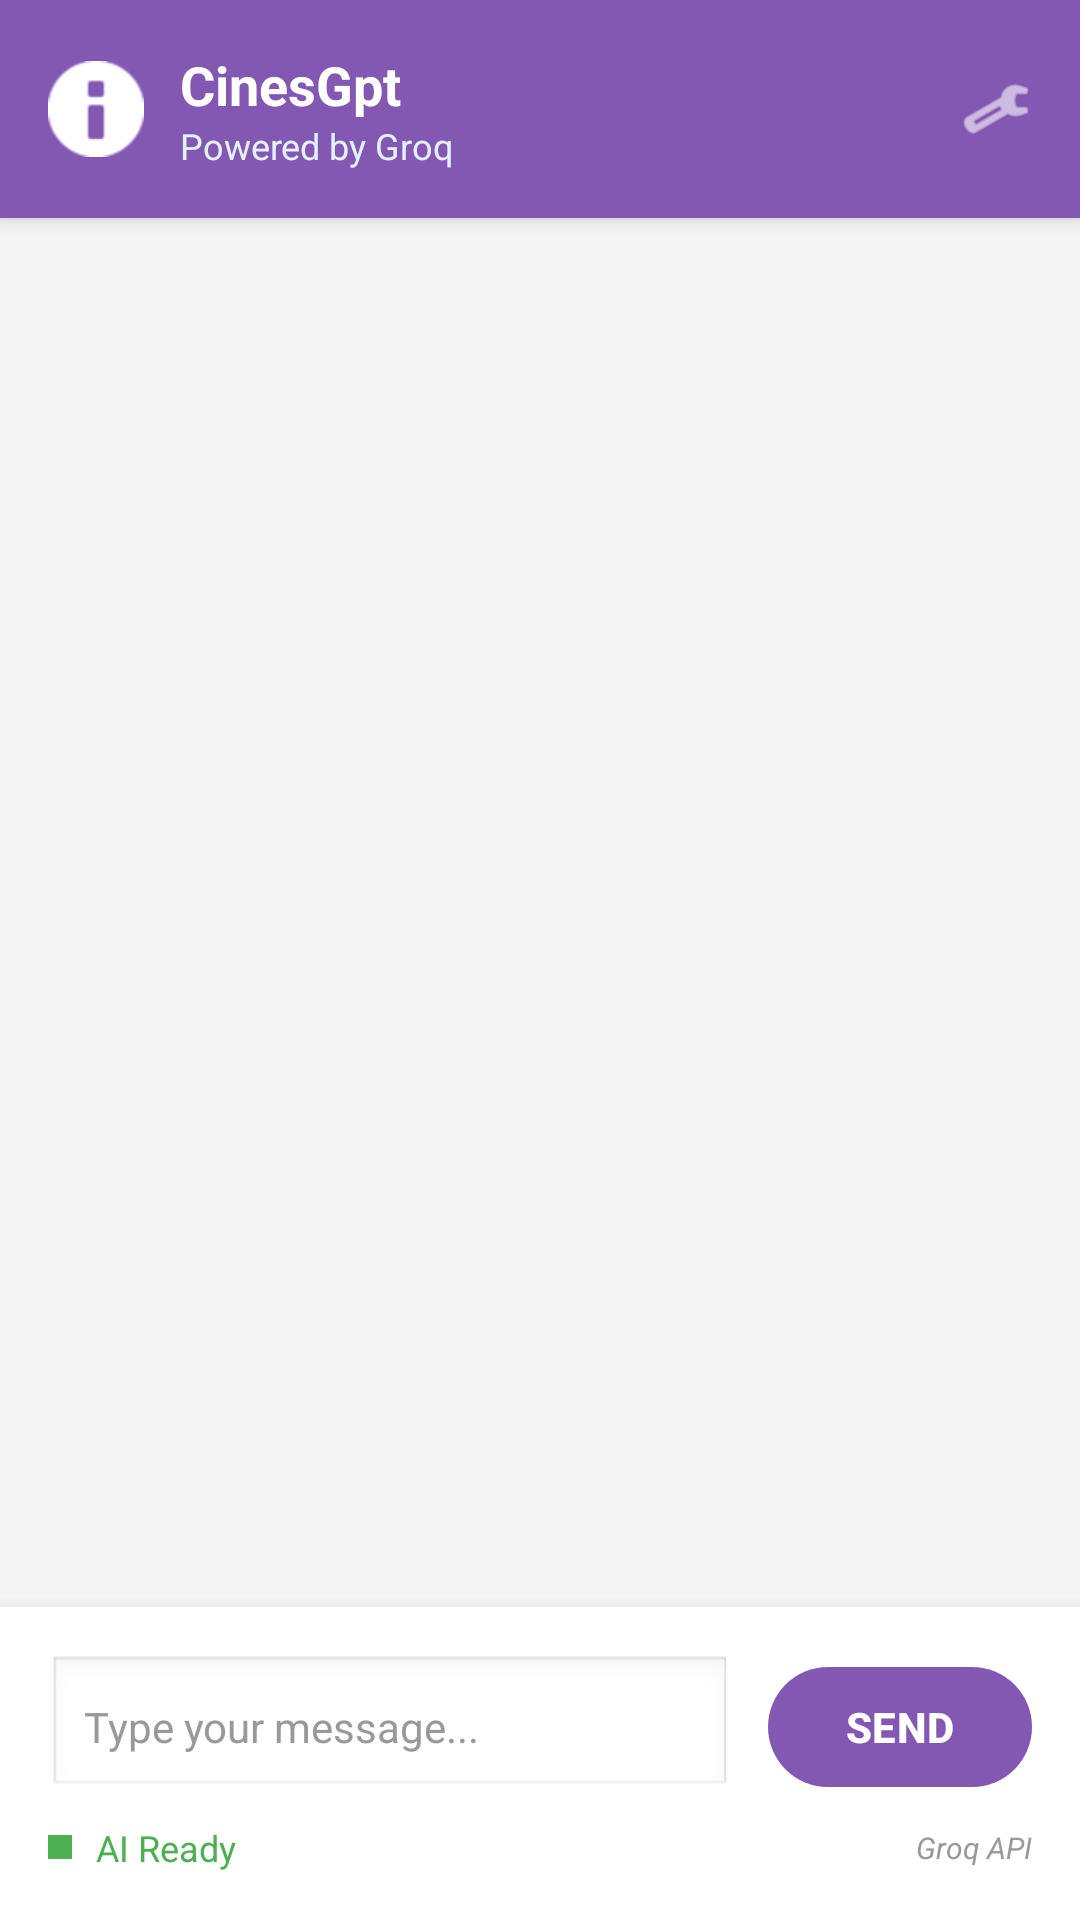

Icons on this 1080 x 1920 Android screen, each with the point to tap as (x=x, y=y):
info: (x=96, y=109)
manage: (x=996, y=109)
